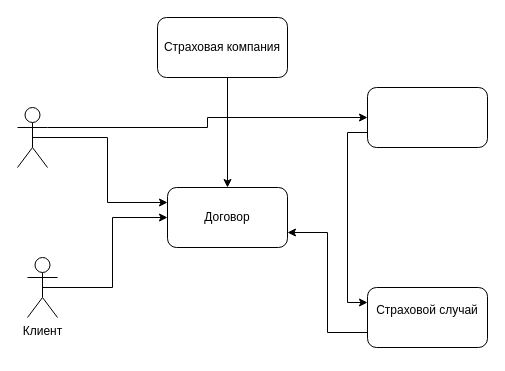
This 505x371 diagram has some shape labels left out. The centre of each missing label's shape, as x and y in pixels:
Агент: point (32, 137)
Вид страхования: point (427, 117)
